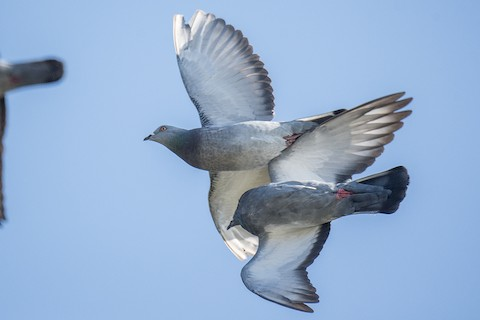pigeon: (144, 8, 382, 262), (223, 90, 432, 316)
